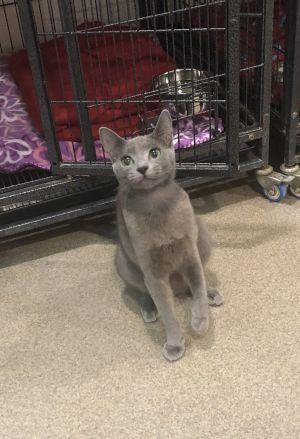rblue: (93, 106, 189, 202)
